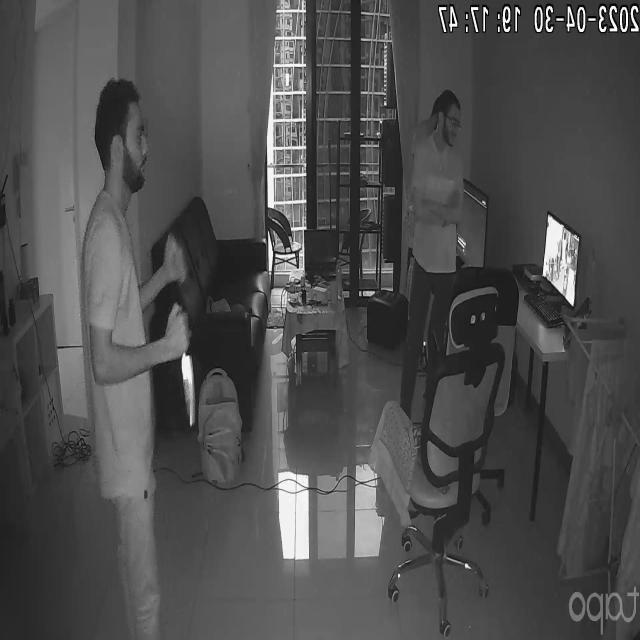Knife: (176, 325, 217, 439)
